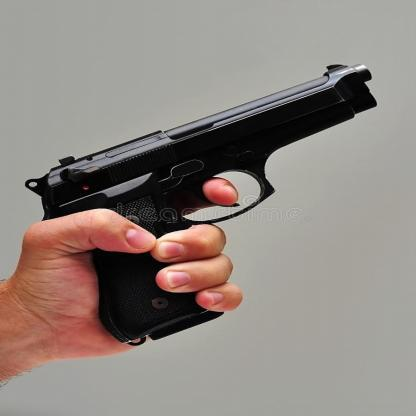gun: (11, 21, 380, 369)
